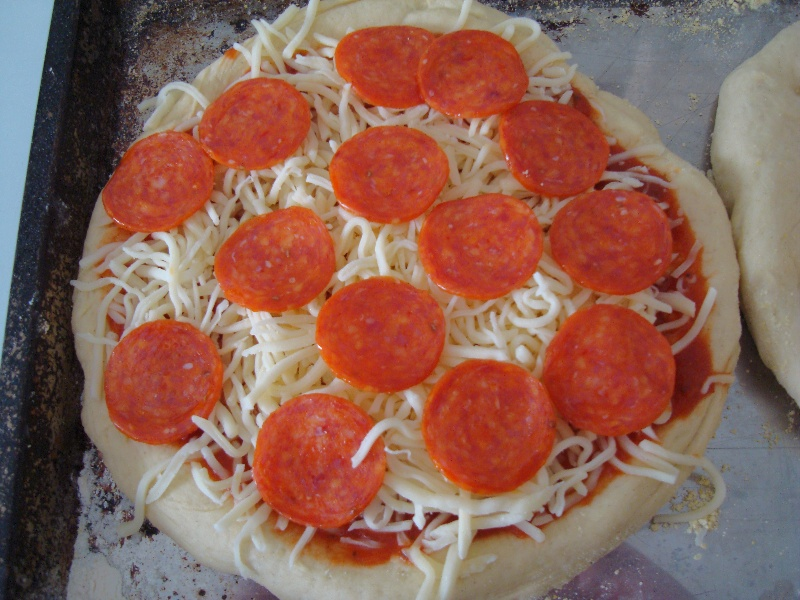pepperonis: (260, 394, 394, 529), (555, 303, 680, 435), (96, 317, 230, 438), (434, 360, 552, 487), (223, 199, 337, 317), (554, 188, 676, 294), (326, 277, 443, 387), (421, 200, 545, 296), (331, 126, 443, 222), (200, 78, 316, 167), (497, 104, 612, 190), (119, 134, 221, 228), (331, 20, 434, 108), (428, 30, 526, 119)
